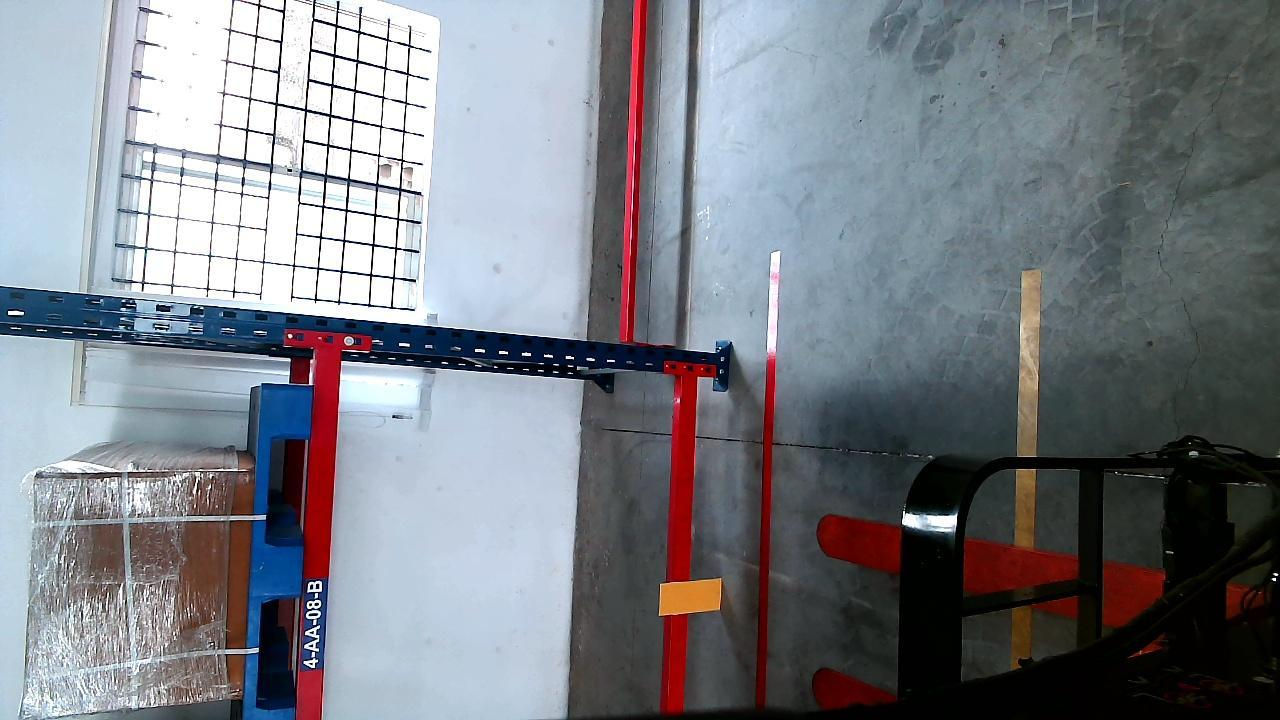red_line: (750, 251, 784, 712)
yellow_line: (1016, 263, 1040, 539)
